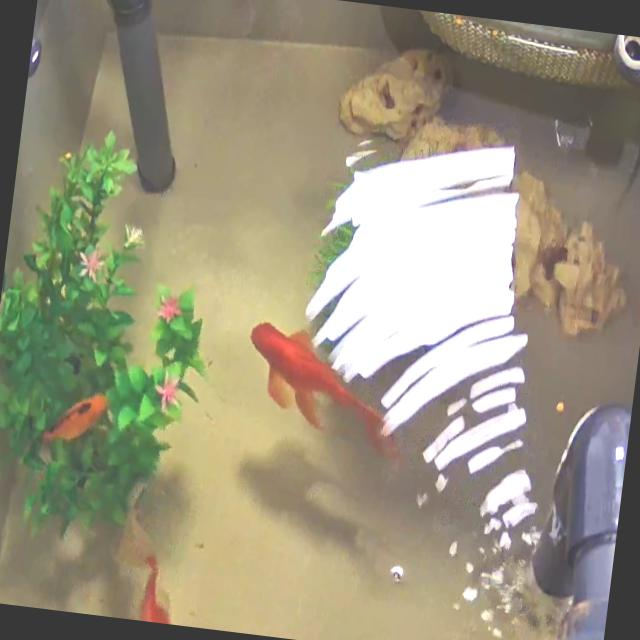fish: (228, 308, 408, 456), (38, 386, 110, 451), (133, 560, 202, 627)
